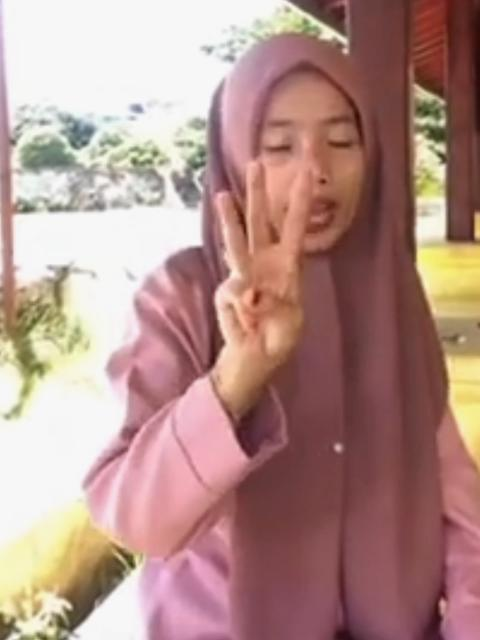W: (214, 156, 308, 370)
